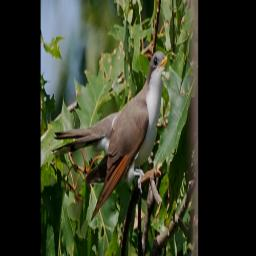Cuckoo: (51, 50, 168, 222)
